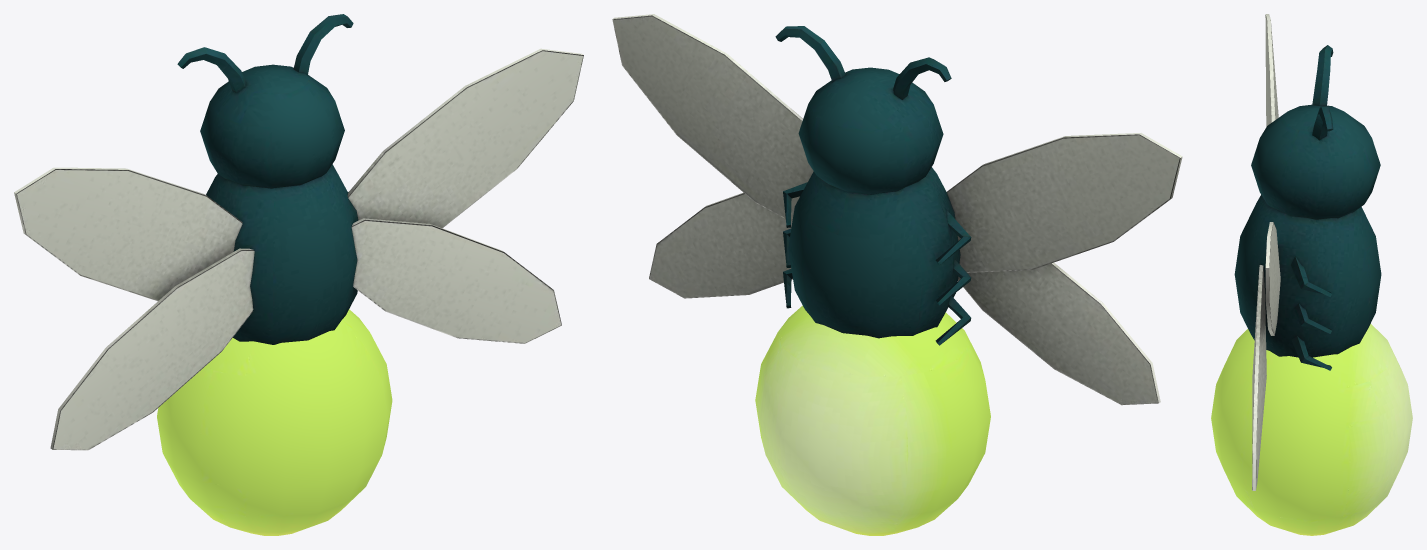
The picture shows the model from 3 angles, left to right: view 1: azimuth 30°, elevation 25°; view 2: azimuth 150°, elevation 25°; view 3: azimuth 270°, elevation 25°; orthographic projection. The views are drawn at different scales.
Parts seen in each view (by area): view 1: Thin_clear_moon_glass, glow_Living_lime_lantern, Pond_teal_satin, Faint_moonlit_wing_edges; view 2: Thin_clear_moon_glass, Pond_teal_satin, glow_Living_lime_lantern, Faint_moonlit_wing_edges; view 3: glow_Living_lime_lantern, Pond_teal_satin, Thin_clear_moon_glass, Faint_moonlit_wing_edges.
Boxes of the visible parts, x1,y1,x2,y2 form: Thin_clear_moon_glass: [16, 51, 582, 449]; glow_Living_lime_lantern: [157, 309, 392, 535]; Pond_teal_satin: [177, 14, 358, 344]; Faint_moonlit_wing_edges: [14, 48, 583, 450]; Thin_clear_moon_glass: [613, 16, 1179, 404]; Pond_teal_satin: [775, 26, 971, 345]; glow_Living_lime_lantern: [755, 305, 990, 535]; Faint_moonlit_wing_edges: [612, 14, 1182, 405]; glow_Living_lime_lantern: [1211, 324, 1412, 535]; Pond_teal_satin: [1234, 45, 1381, 370]; Thin_clear_moon_glass: [1252, 15, 1280, 489]; Faint_moonlit_wing_edges: [1252, 14, 1276, 490].
Bounding box in the file's own units: 0.9168 × 0.7562 × 0.308.
4 materials, 4 textured.
